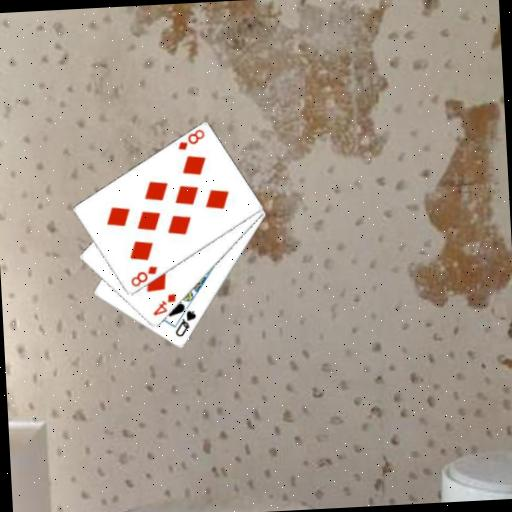4D: (149, 291, 179, 318)
8D: (127, 263, 160, 290), (174, 126, 207, 153)
QS: (171, 307, 199, 339)
